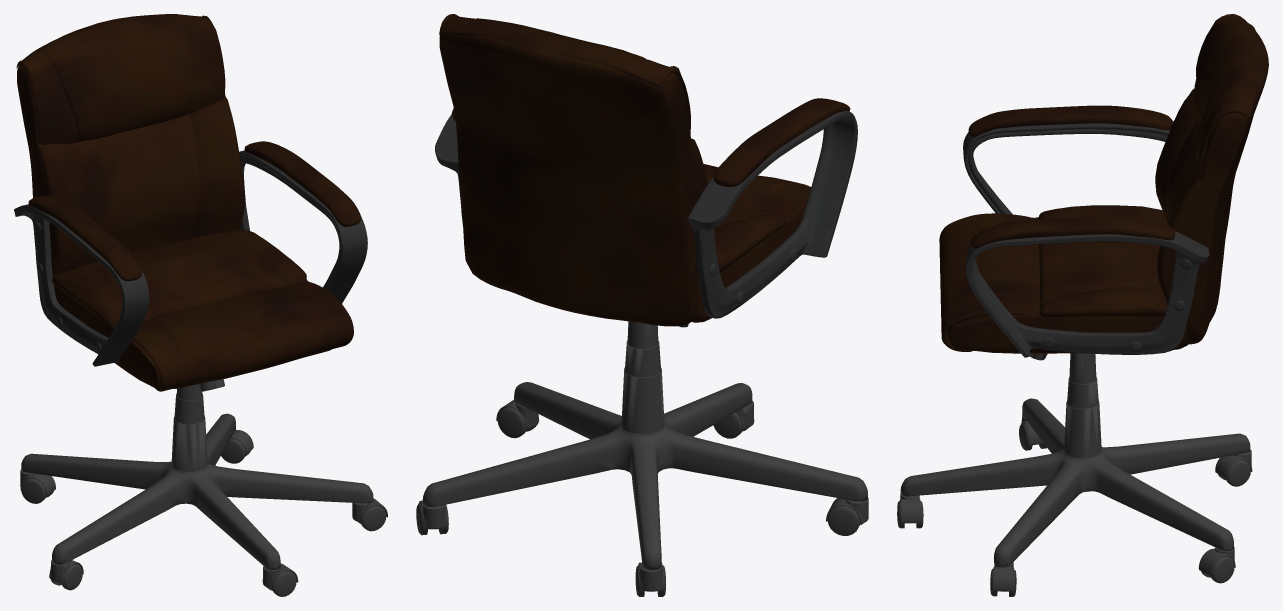
File: B0735WMNT5.glb
The picture shows the model from 3 angles, left to right: view 1: azimuth 30°, elevation 25°; view 2: azimuth 150°, elevation 25°; view 3: azimuth 270°, elevation 25°; orthographic projection. The views are drawn at different scales.
Parts seen in each view (by area): view 1: Root; view 2: Root; view 3: Root.
Part boxes in pixels (x1,y1,x2,y2): Root: (14, 14, 387, 596); Root: (416, 14, 868, 596); Root: (897, 14, 1268, 596).
Bounding box in the file's own units: 0.7385 × 1 × 0.7169.
1 material, 1 textured.
